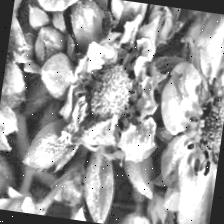Blossom Blight: (66, 36, 152, 142), (178, 66, 224, 180)
